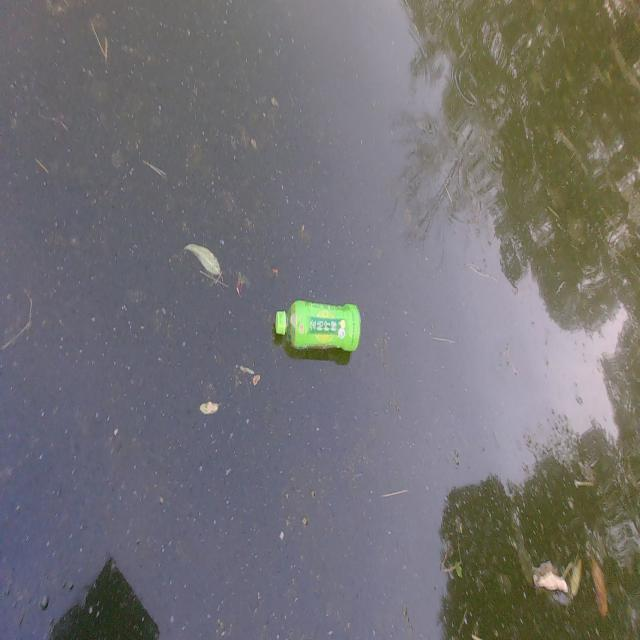bottle: (260, 286, 378, 369)
